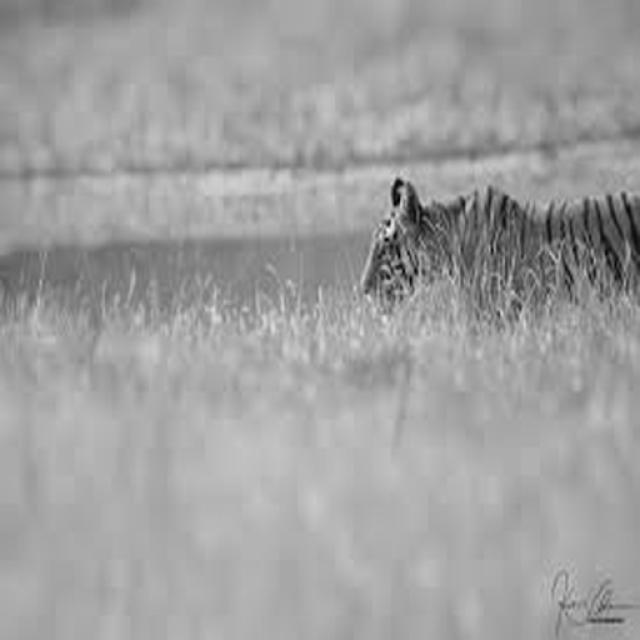Tiger: (358, 174, 638, 320)
